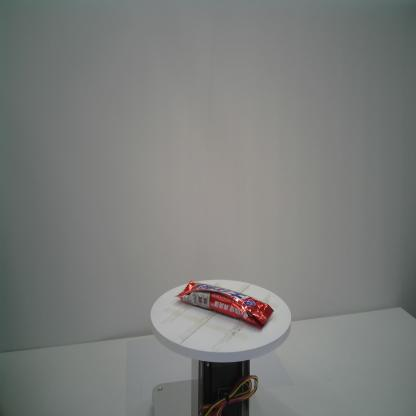Chocolate: (174, 279, 274, 333)
